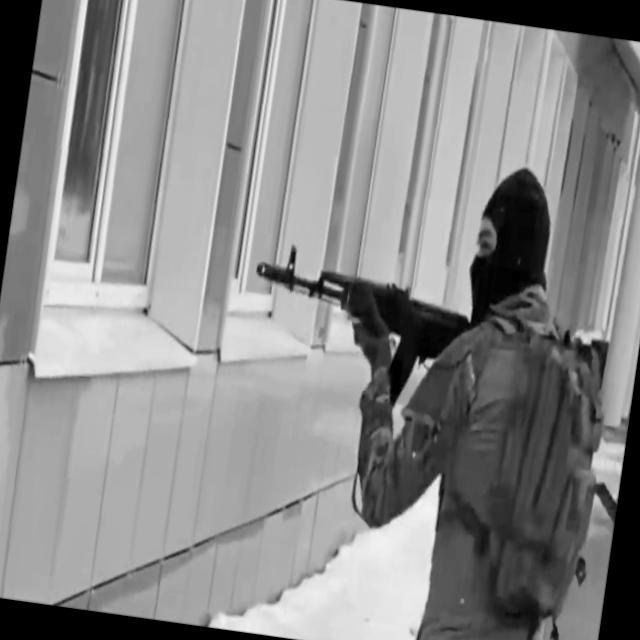gun: (237, 238, 484, 433)
person with a gun: (205, 131, 639, 640)
